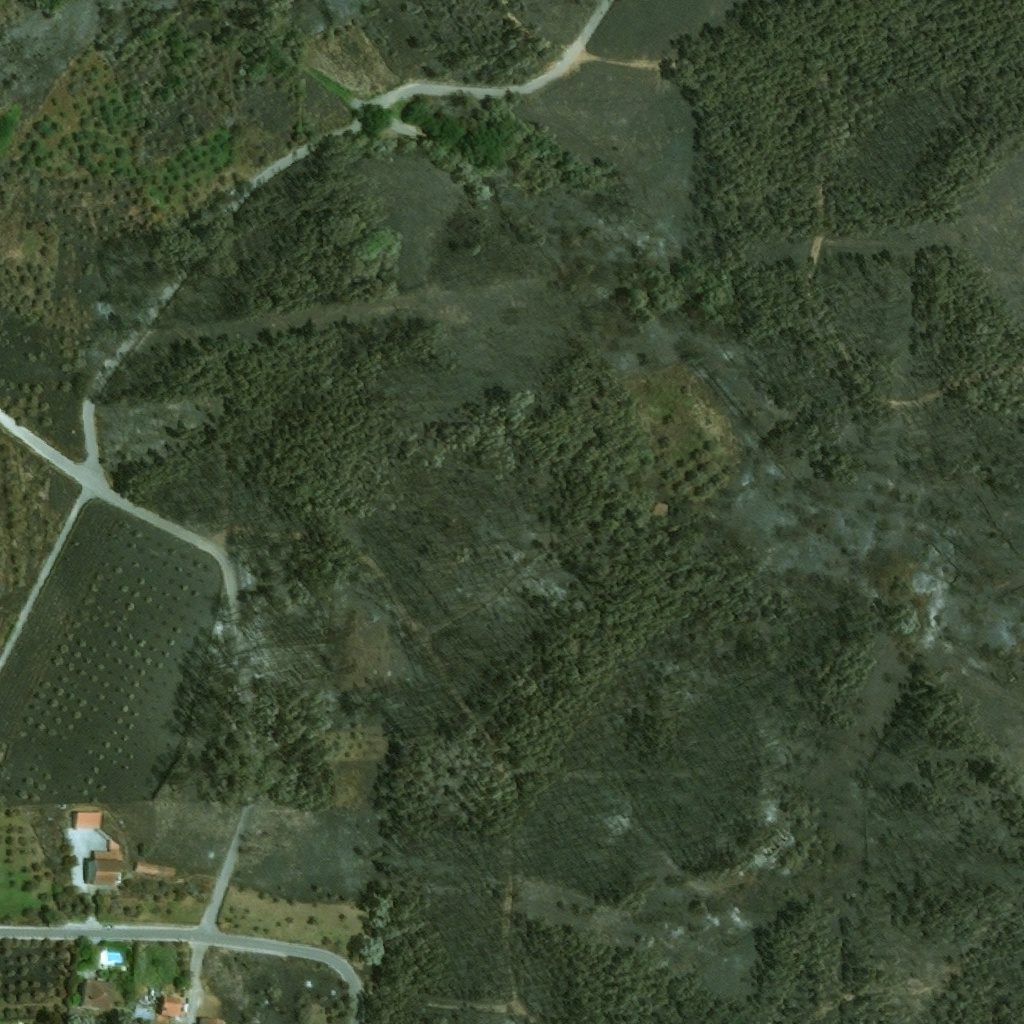0 no-damage: (82, 839, 122, 884), (131, 996, 184, 1023), (79, 981, 126, 1008), (73, 812, 102, 830), (133, 862, 159, 878), (197, 1017, 224, 1023)
3 destroyed: (749, 830, 788, 868)
